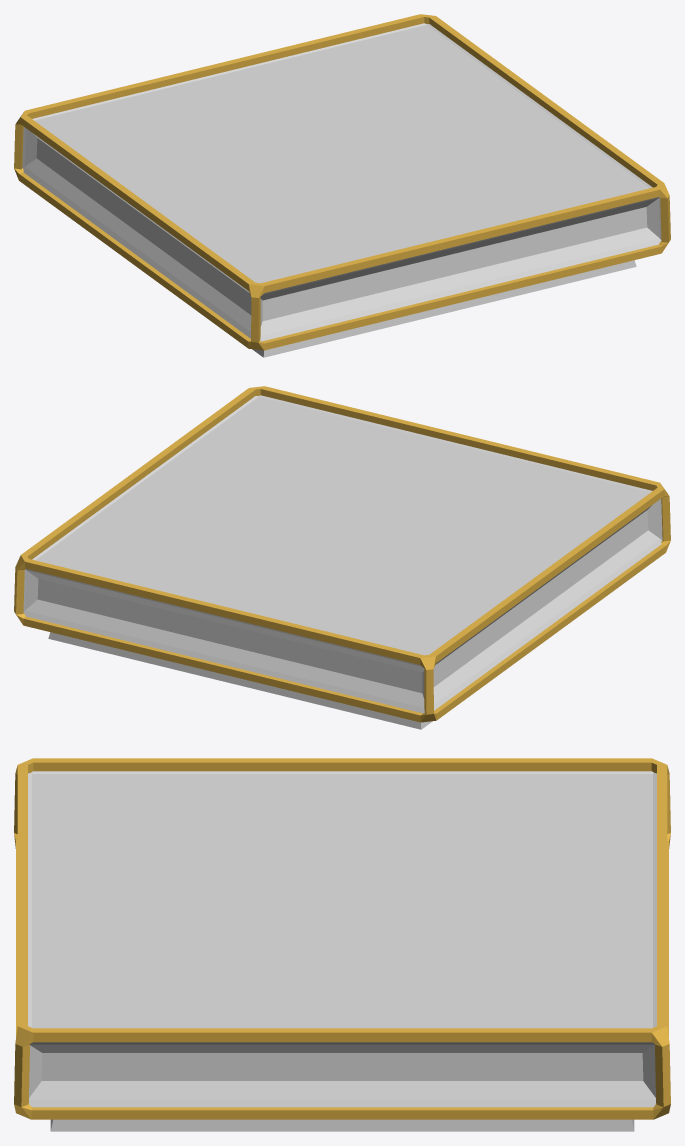
File: PlatformSquare.fbx
3 renders of one model, top to bottom at view 1: azimuth 30°, elevation 25°; view 2: azimuth 150°, elevation 25°; view 3: azimuth 270°, elevation 25°, orthographic. The views are drawn at different scales.
Visible parts, largest first — view 1: PlatformBar; view 2: PlatformBar; view 3: PlatformBar.
Boxes of the visible parts, left/top/right/bottom form: PlatformBar: left=14, top=14, right=670, bottom=357; PlatformBar: left=14, top=386, right=670, bottom=729; PlatformBar: left=14, top=758, right=670, bottom=1131.
Bounding box in the file's own units: 409 × 122 × 409.
